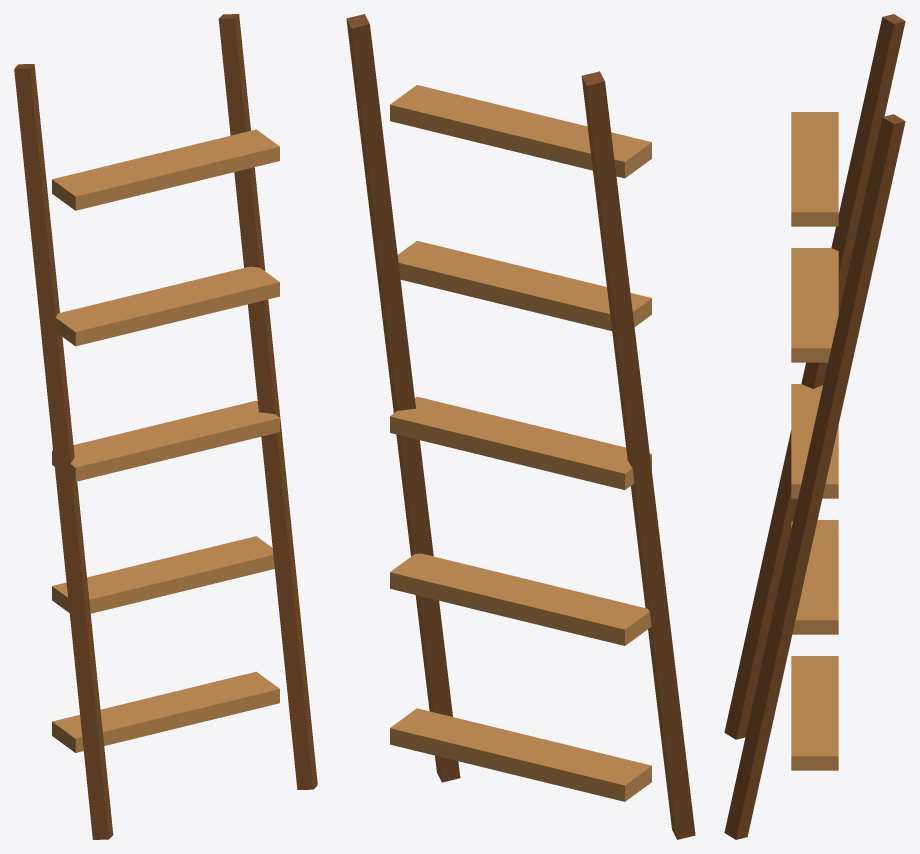
Rendered from library_ladder.fbx.
3 renders of one model, left to right at view 1: azimuth 30°, elevation 25°; view 2: azimuth 150°, elevation 25°; view 3: azimuth 270°, elevation 25°, orthographic. The views are drawn at different scales.
Parts seen in each view (by area): view 1: library_ladder; view 2: library_ladder; view 3: library_ladder.
Boxes of the visible parts, x1,y1,x2,y2 form: library_ladder: (14, 14, 317, 839); library_ladder: (346, 14, 695, 839); library_ladder: (724, 14, 905, 839).
Size of the model in its own units: 0.66 by 2.01 by 0.4588.
